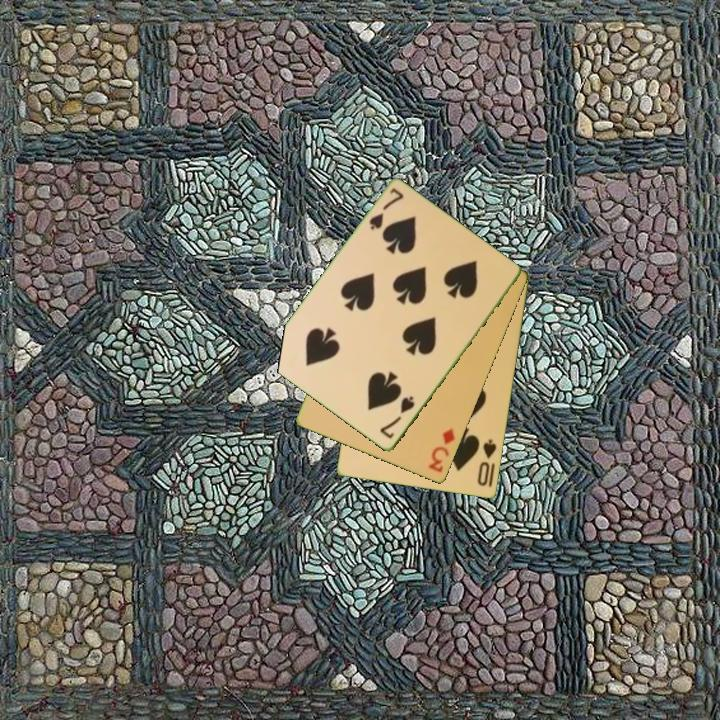10s: (474, 436, 500, 489)
3d: (425, 425, 458, 476)
7s: (376, 393, 418, 442), (365, 184, 407, 233)
